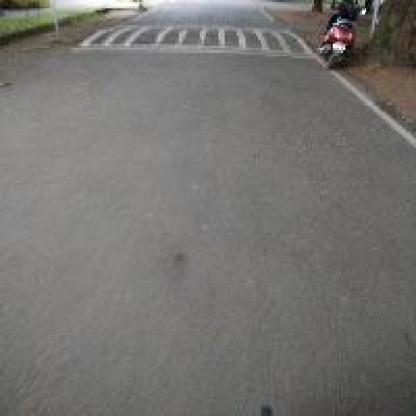Speed Bump: (65, 14, 316, 60)
